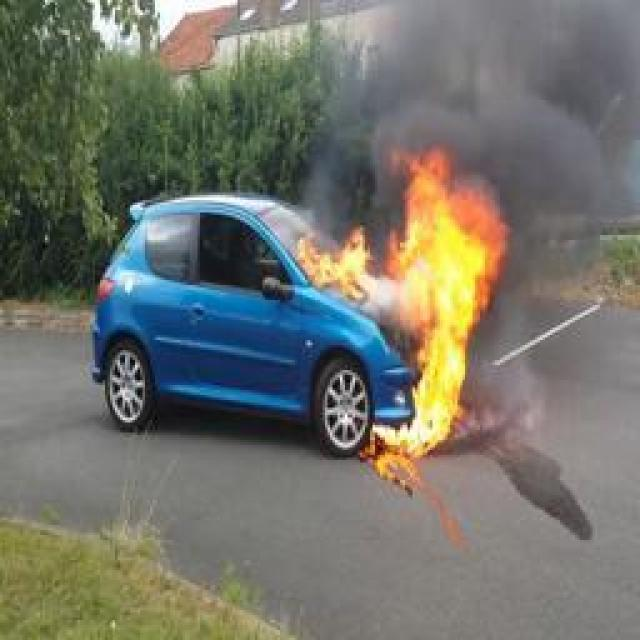Fire: (292, 146, 516, 456)
